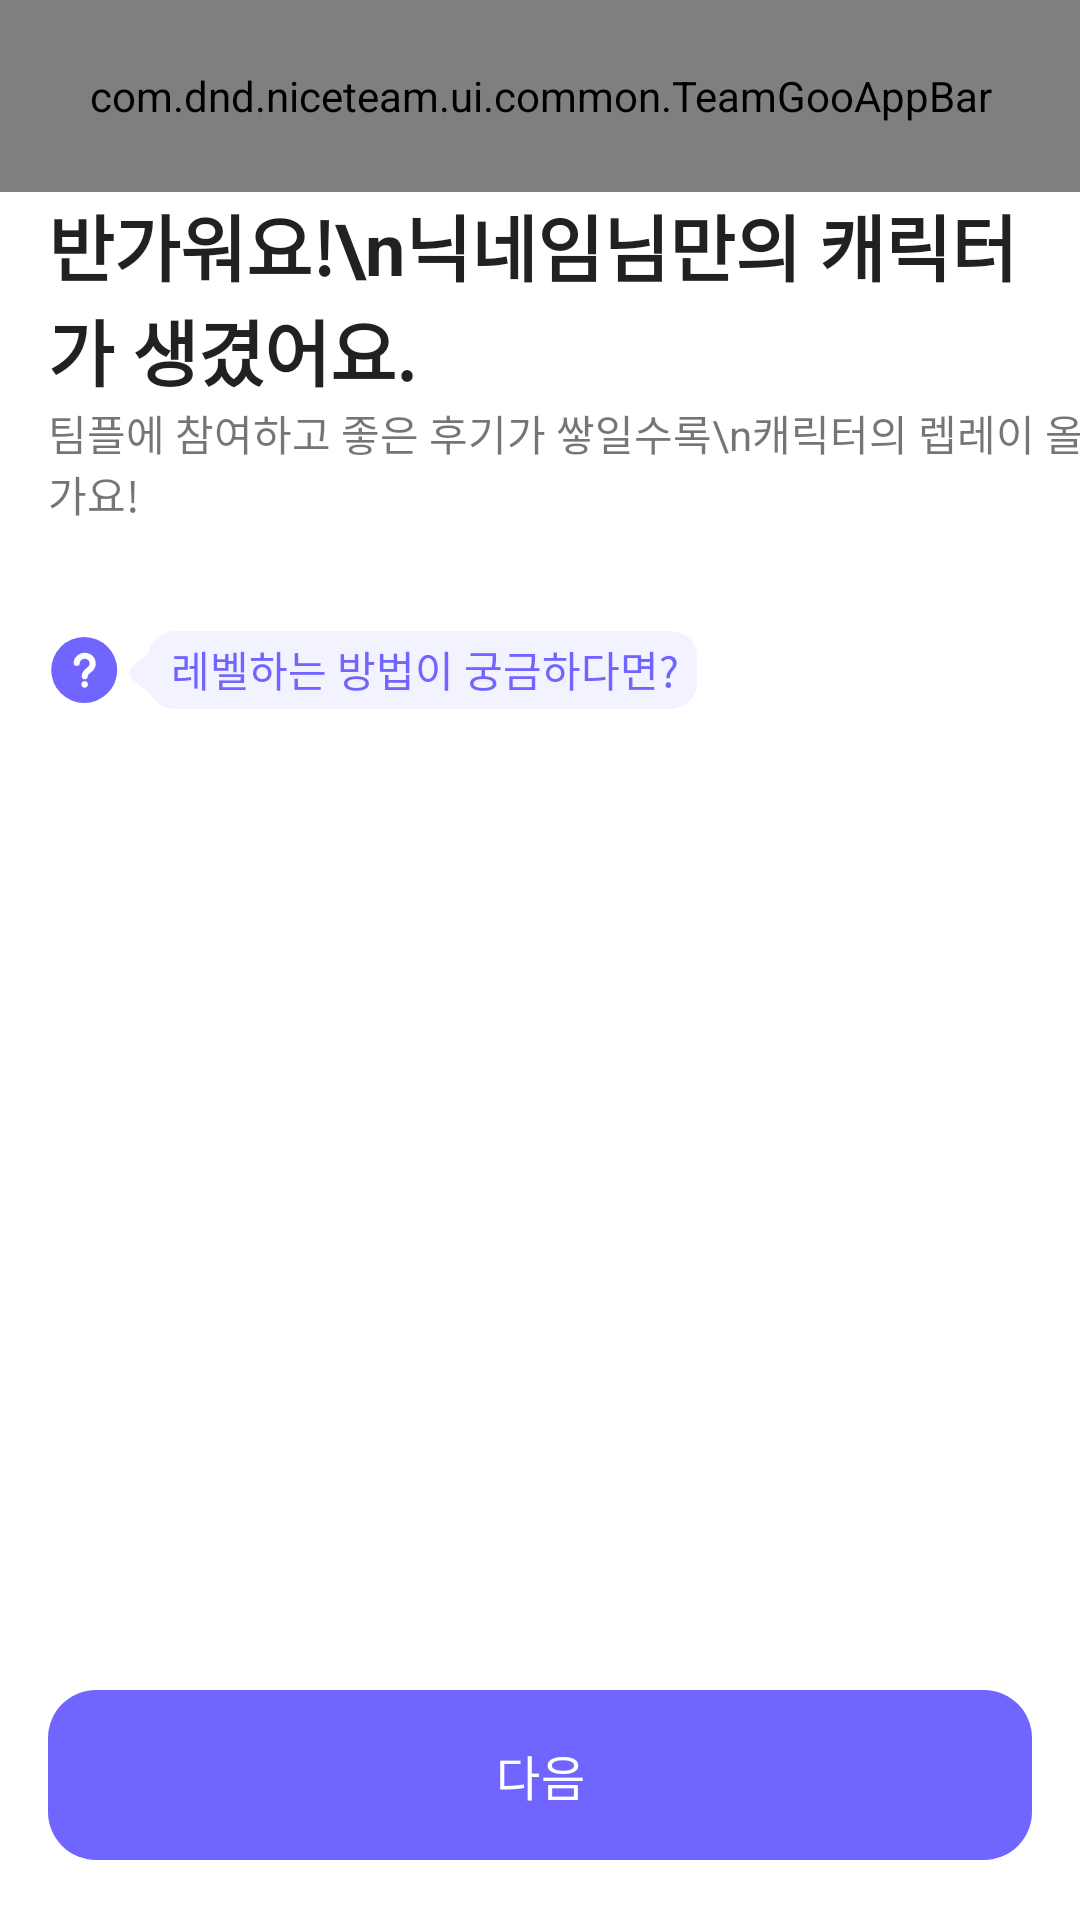

Screen size 1080px x 1920px. Icon name, then its center in pixels as (x=x, y=y):
help: (x=84, y=670)
